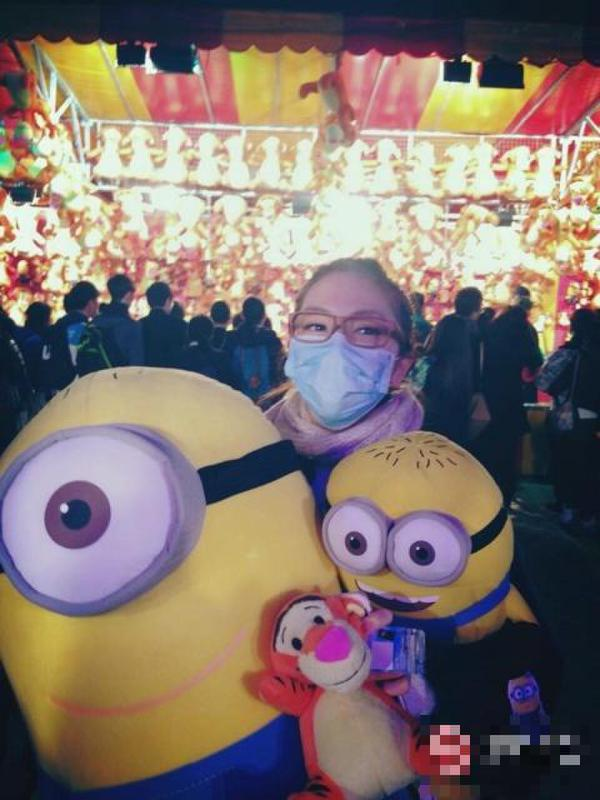OK: (288, 308, 403, 423)
